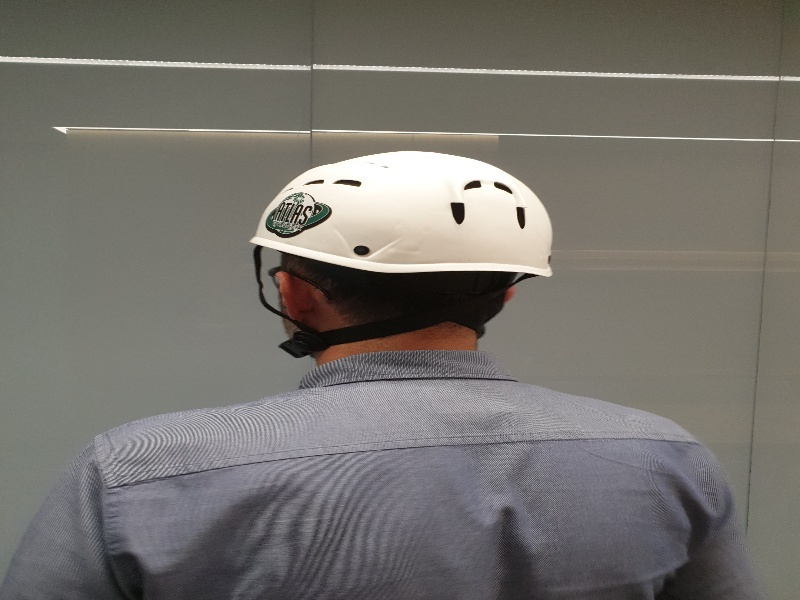Baret: (252, 148, 554, 283)
